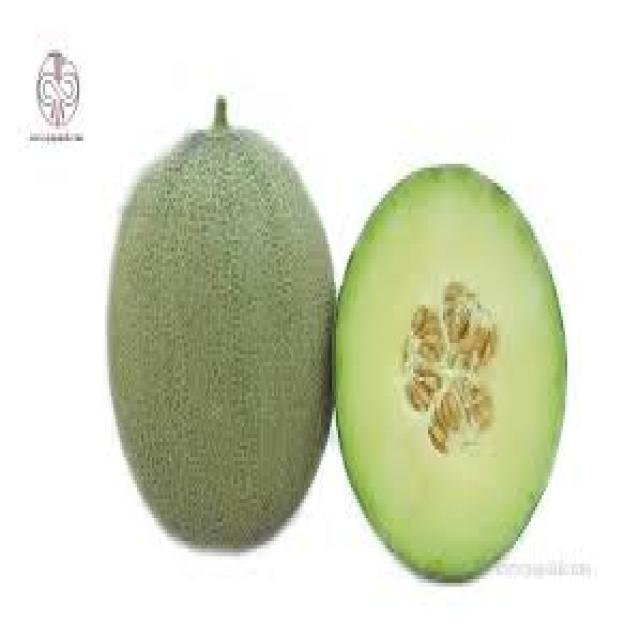melon: (101, 114, 336, 560), (334, 160, 569, 590)
